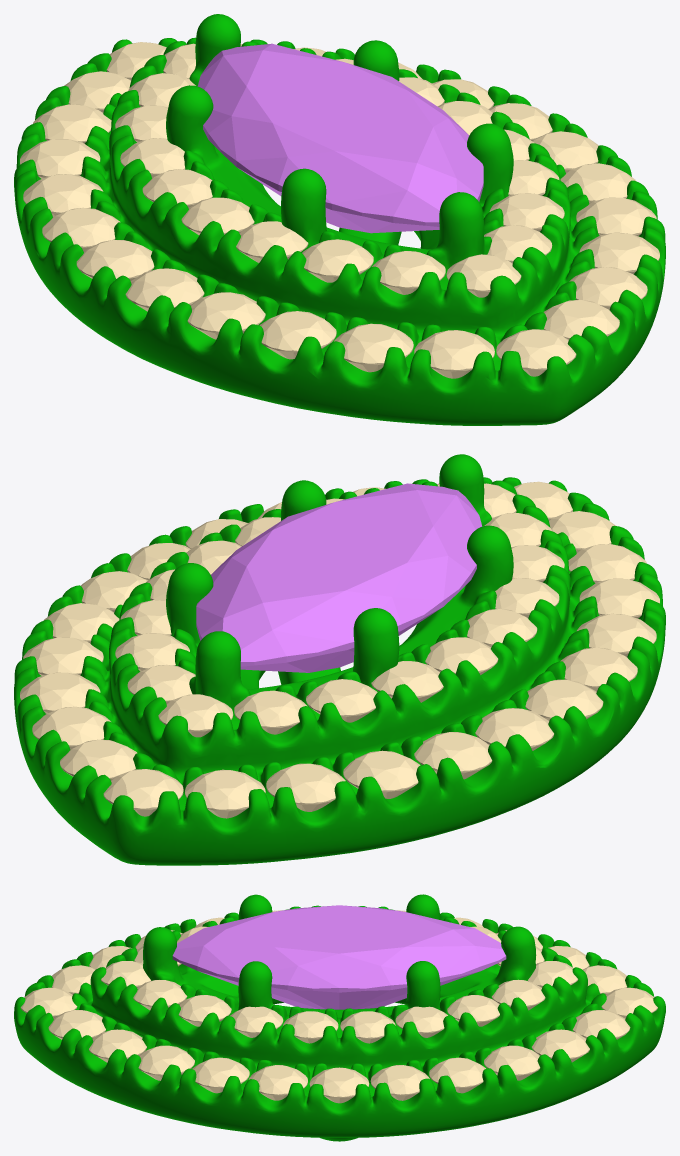
3 views of the same model, one above another, from view 1: azimuth 30°, elevation 25°; view 2: azimuth 150°, elevation 25°; view 3: azimuth 270°, elevation 25° (orthographic). The views are drawn at different scales.
Visible parts, largest first — view 1: Metal01, Diamond_Marquise, Diamond_Round.001, Diamond_Round.002, Diamond_Round, Diamond_Round.023, Diamond_Round.022, Diamond_Round.021, Diamond_Round.003, Diamond_Round.020, Diamond_Round.004, Diamond_Round.028 (+26 smaller); view 2: Metal01, Diamond_Marquise, Diamond_Round.017, Diamond_Round.018, Diamond_Round.016, Diamond_Round.019, Diamond_Round.021, Diamond_Round.015, Diamond_Round.020, Diamond_Round.022, Diamond_Round.014, Diamond_Round.013 (+26 smaller); view 3: Metal01, Diamond_Marquise, Diamond_Round.009, Diamond_Round.007, Diamond_Round.008, Diamond_Round.010, Diamond_Round.011, Diamond_Round.012, Diamond_Round.006, Diamond_Round.013, Diamond_Round.005, Diamond_Round.004 (+17 smaller).
Part boxes in pixels (x1,y1,x2,y2): Metal01: (14,14,665,425); Diamond_Marquise: (197,43,483,233); Diamond_Round.001: (334,323,413,372); Diamond_Round.002: (414,330,494,378); Diamond_Round: (259,311,336,359); Diamond_Round.023: (187,292,265,339); Diamond_Round.022: (125,268,204,311); Diamond_Round.021: (76,240,154,280); Diamond_Round.003: (496,329,576,376); Diamond_Round.020: (42,207,120,251); Diamond_Round.004: (543,299,619,339); Diamond_Round.028: (302,239,373,282); Metal01: (14,454,665,865); Diamond_Marquise: (196,483,482,672); Diamond_Round.017: (266,763,345,811); Diamond_Round.018: (343,750,420,798); Diamond_Round.016: (185,769,265,818); Diamond_Round.019: (414,732,492,779); Diamond_Round.021: (525,679,603,720); Diamond_Round.015: (103,769,183,816); Diamond_Round.020: (475,708,553,750); Diamond_Round.022: (560,647,637,691); Diamond_Round.014: (60,739,137,779); Diamond_Round.013: (32,706,110,749); Metal01: (14,894,665,1141); Diamond_Marquise: (172,905,506,1009); Diamond_Round.009: (309,1067,369,1103); Diamond_Round.007: (192,1057,249,1093); Diamond_Round.008: (249,1065,307,1100); Diamond_Round.010: (370,1065,429,1100); Diamond_Round.011: (429,1057,485,1093); Diamond_Round.012: (484,1045,540,1080); Diamond_Round.006: (138,1045,194,1080); Diamond_Round.013: (531,1029,589,1062); Diamond_Round.005: (89,1029,146,1062); Diamond_Round.004: (48,1010,105,1039).
Bounding box in the file's own units: 10.51 × 5.4 × 15.37.
